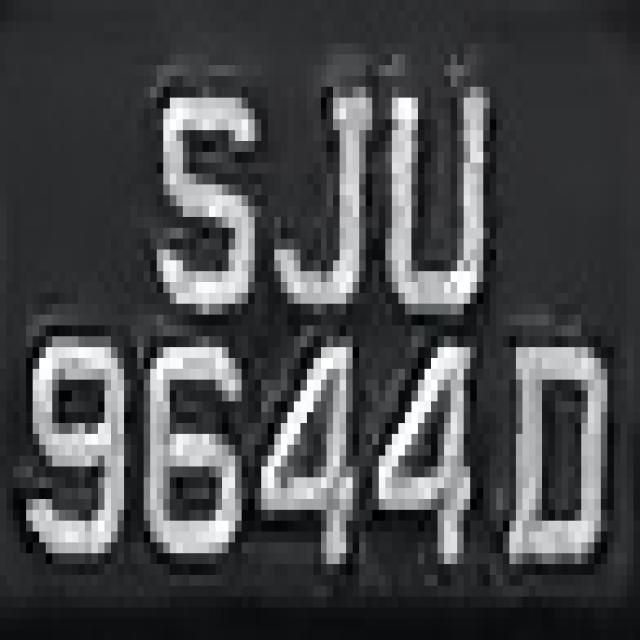4: (352, 304, 490, 596), (248, 304, 366, 575)
6: (137, 326, 242, 554)
9: (20, 282, 137, 564)
D: (509, 325, 601, 575)
J: (255, 44, 372, 336)
S: (130, 22, 254, 347)
U: (366, 76, 503, 347)
